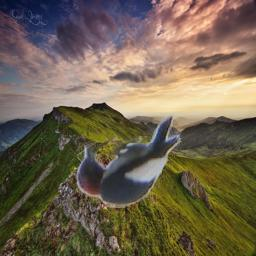Woodpecker: (74, 114, 183, 209)
